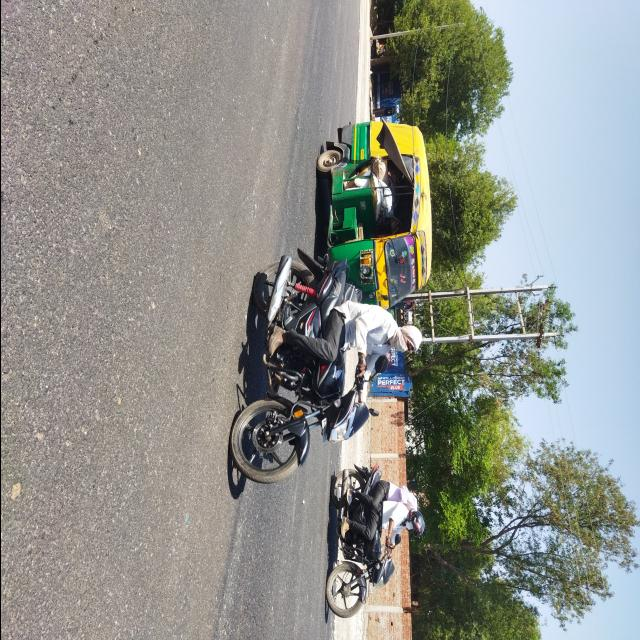Autorickshaw: (309, 103, 435, 314)
